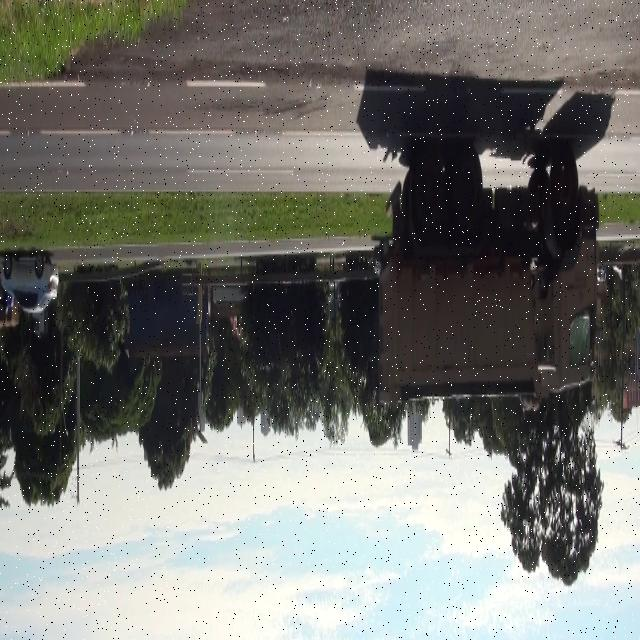-axle: (446, 137, 484, 240), (408, 140, 446, 241), (548, 141, 582, 229)
